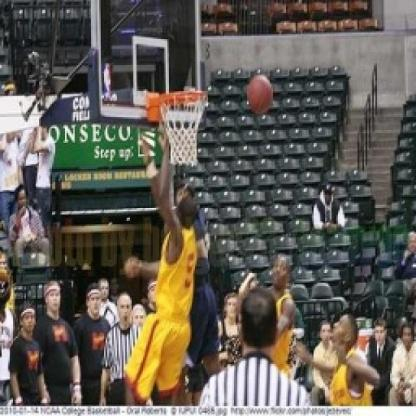basketball: (244, 73, 278, 115)
